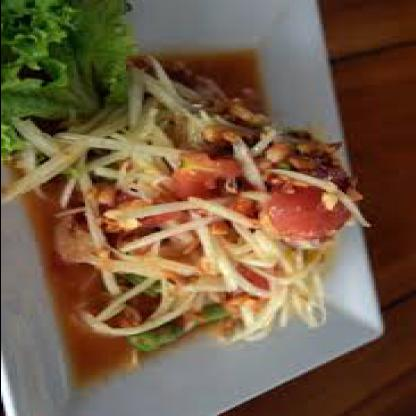Papaya Salad: (5, 51, 372, 376)
